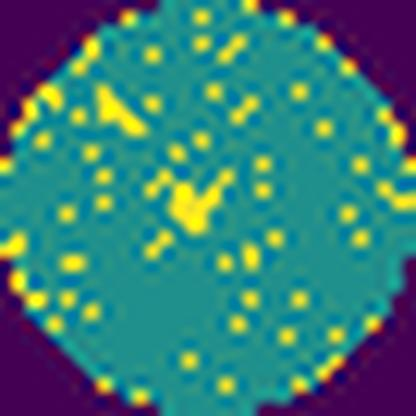Center: (144, 162, 235, 240)
